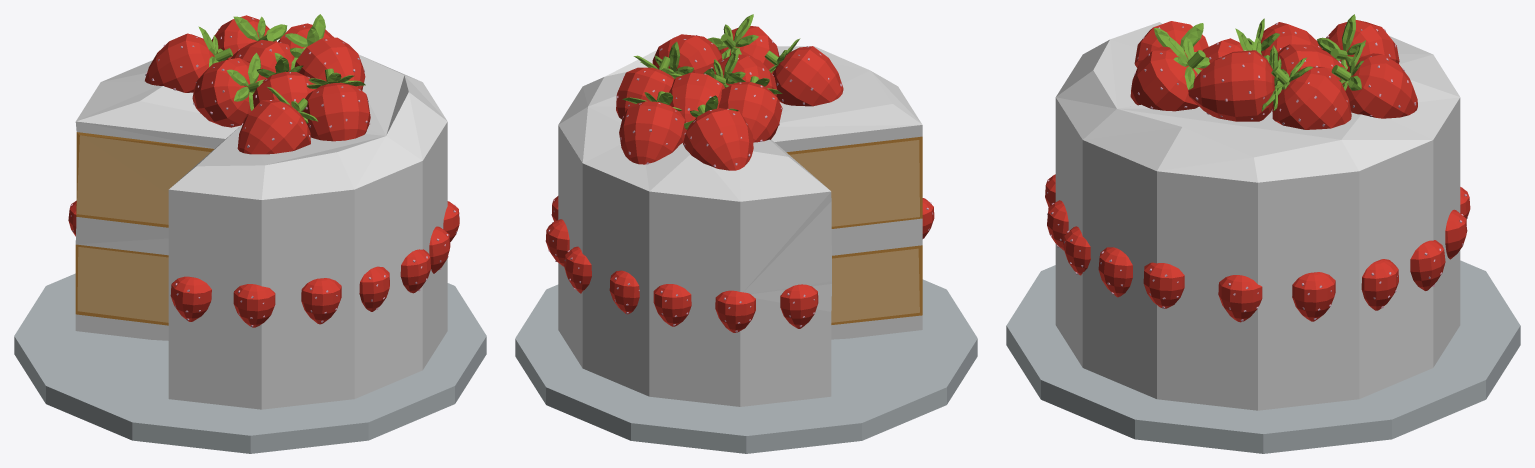
The picture shows the model from 3 angles, left to right: view 1: azimuth 30°, elevation 25°; view 2: azimuth 150°, elevation 25°; view 3: azimuth 270°, elevation 25°; orthographic projection. The views are drawn at different scales.
Visible parts, largest first — view 1: node_MeshObject-122084544-PolyPaper21, node_MeshObject-1823451520-PolyPaper9, node_MeshObject915355584-PolyPaper6, node_MeshObject1434075648-PolyPaper9, node_MeshObject1952795712-PolyPaper9, node_MeshObject396635520-PolyPaper8; view 2: node_MeshObject-122084544-PolyPaper21, node_MeshObject-1823451520-PolyPaper9, node_MeshObject1434075648-PolyPaper9, node_MeshObject1952795712-PolyPaper9, node_MeshObject396635520-PolyPaper8, node_MeshObject915355584-PolyPaper6; view 3: node_MeshObject-122084544-PolyPaper21, node_MeshObject-1823451520-PolyPaper9, node_MeshObject396635520-PolyPaper8, node_MeshObject915355584-PolyPaper6, node_MeshObject1434075648-PolyPaper9, node_MeshObject1952795712-PolyPaper9.
Part boxes in pixels (<box>): node_MeshObject-122084544-PolyPaper21: <box>68,26,447,409</box>; node_MeshObject-1823451520-PolyPaper9: <box>14,16,486,453</box>; node_MeshObject915355584-PolyPaper6: <box>252,52,450,324</box>; node_MeshObject1434075648-PolyPaper9: <box>192,14,367,154</box>; node_MeshObject1952795712-PolyPaper9: <box>145,15,317,147</box>; node_MeshObject396635520-PolyPaper8: <box>170,201,459,327</box>; node_MeshObject-122084544-PolyPaper21: <box>558,34,922,406</box>; node_MeshObject-1823451520-PolyPaper9: <box>515,92,977,453</box>; node_MeshObject1434075648-PolyPaper9: <box>616,24,843,142</box>; node_MeshObject1952795712-PolyPaper9: <box>619,38,841,170</box>; node_MeshObject396635520-PolyPaper8: <box>545,196,934,326</box>; node_MeshObject915355584-PolyPaper6: <box>660,14,779,96</box>; node_MeshObject-122084544-PolyPaper21: <box>1055,22,1460,410</box>; node_MeshObject-1823451520-PolyPaper9: <box>1006,56,1520,453</box>; node_MeshObject396635520-PolyPaper8: <box>1047,179,1470,322</box>; node_MeshObject915355584-PolyPaper6: <box>1045,28,1269,297</box>; node_MeshObject1434075648-PolyPaper9: <box>1134,18,1351,129</box>; node_MeshObject1952795712-PolyPaper9: <box>1137,14,1417,118</box>.
Bounding box in the file's own units: 0.94 × 0.6774 × 0.94.
